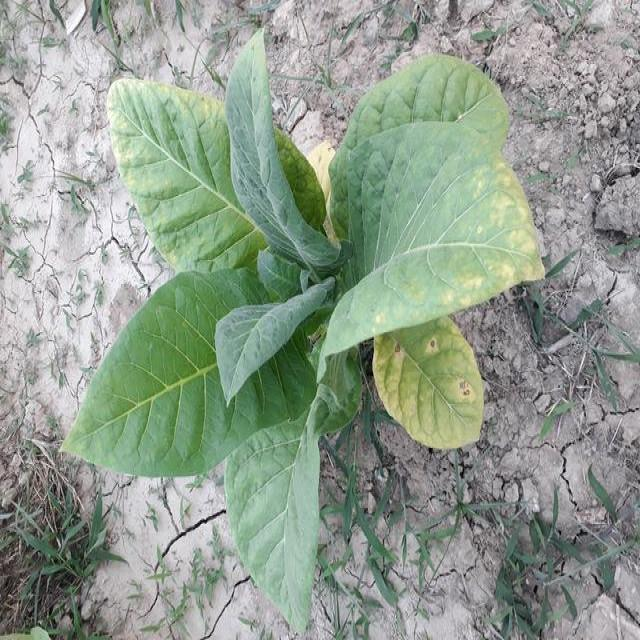crop: (63, 49, 543, 628)
